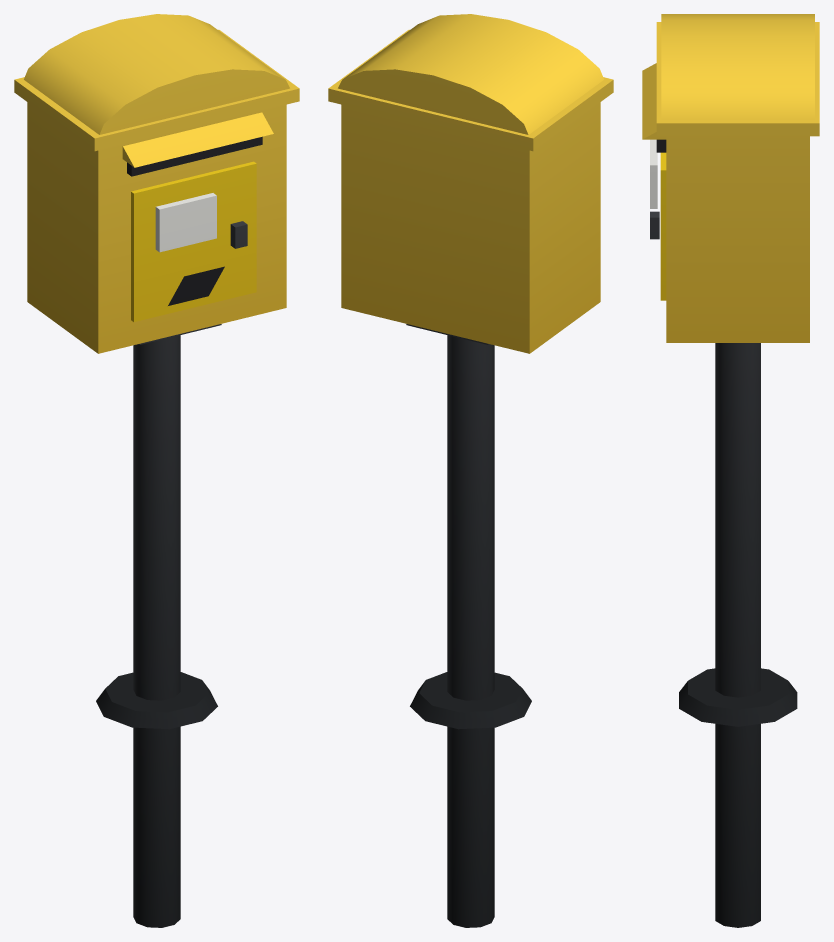
Rendered from Mailbox.fbx.
3 renders of one model, left to right at view 1: azimuth 30°, elevation 25°; view 2: azimuth 150°, elevation 25°; view 3: azimuth 270°, elevation 25°, orthographic.
Parts seen in each view (by area): view 1: Mailbox_LOD0; view 2: Mailbox_LOD0; view 3: Mailbox_LOD0.
Part boxes in pixels (x1,y1,x2,y2): Mailbox_LOD0: (14,14,299,927); Mailbox_LOD0: (328,14,613,927); Mailbox_LOD0: (642,14,819,927).
Size of what is drawn, in the model's own units: 0.5 by 2.03 by 0.37.
1 material, 1 textured.
